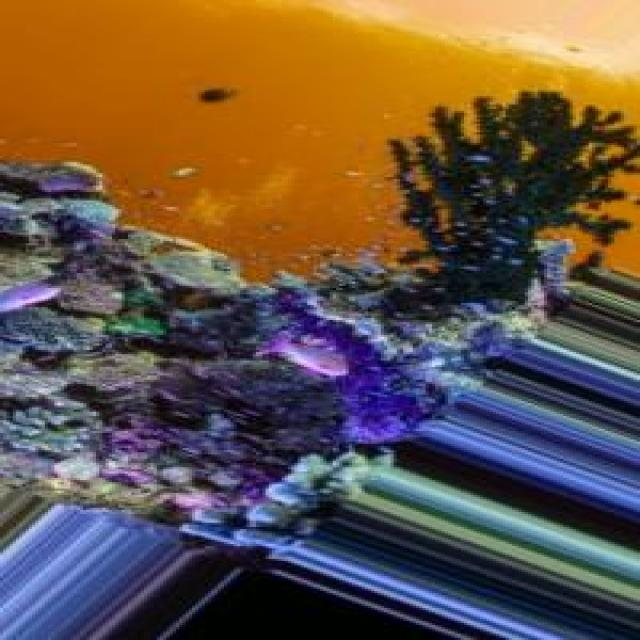Healthy: (1, 91, 640, 547), (1, 161, 190, 466), (404, 95, 635, 315), (225, 293, 430, 483)
